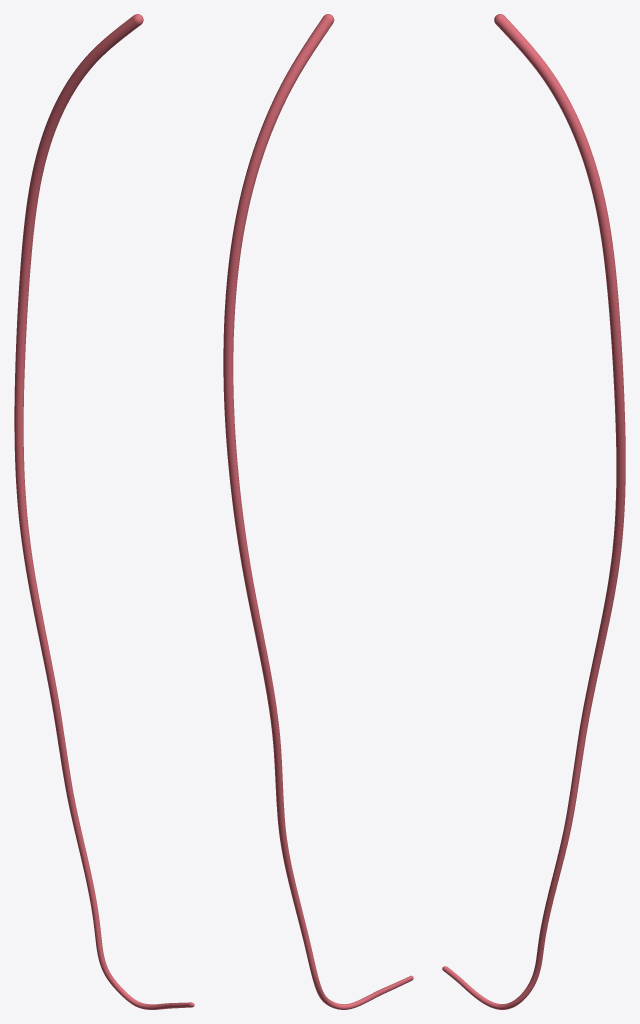
Rendered from fma44334_fj2176.glb.
3 views of the same model, side by side, from view 1: azimuth 90°, elevation 25°; view 2: azimuth 150°, elevation 25°; view 3: azimuth 270°, elevation 25° (orthographic).
Visible parts, largest first — view 1: FMA44334_FJ2176; view 2: FMA44334_FJ2176; view 3: FMA44334_FJ2176.
Part boxes in pixels (x1=…): FMA44334_FJ2176: x1=14, y1=14, x2=194, y2=1009; FMA44334_FJ2176: x1=223, y1=14, x2=413, y2=1009; FMA44334_FJ2176: x1=442, y1=14, x2=625, y2=1009.
Bounding box in the file's own units: 0.0501 × 0.4544 × 0.0753.
